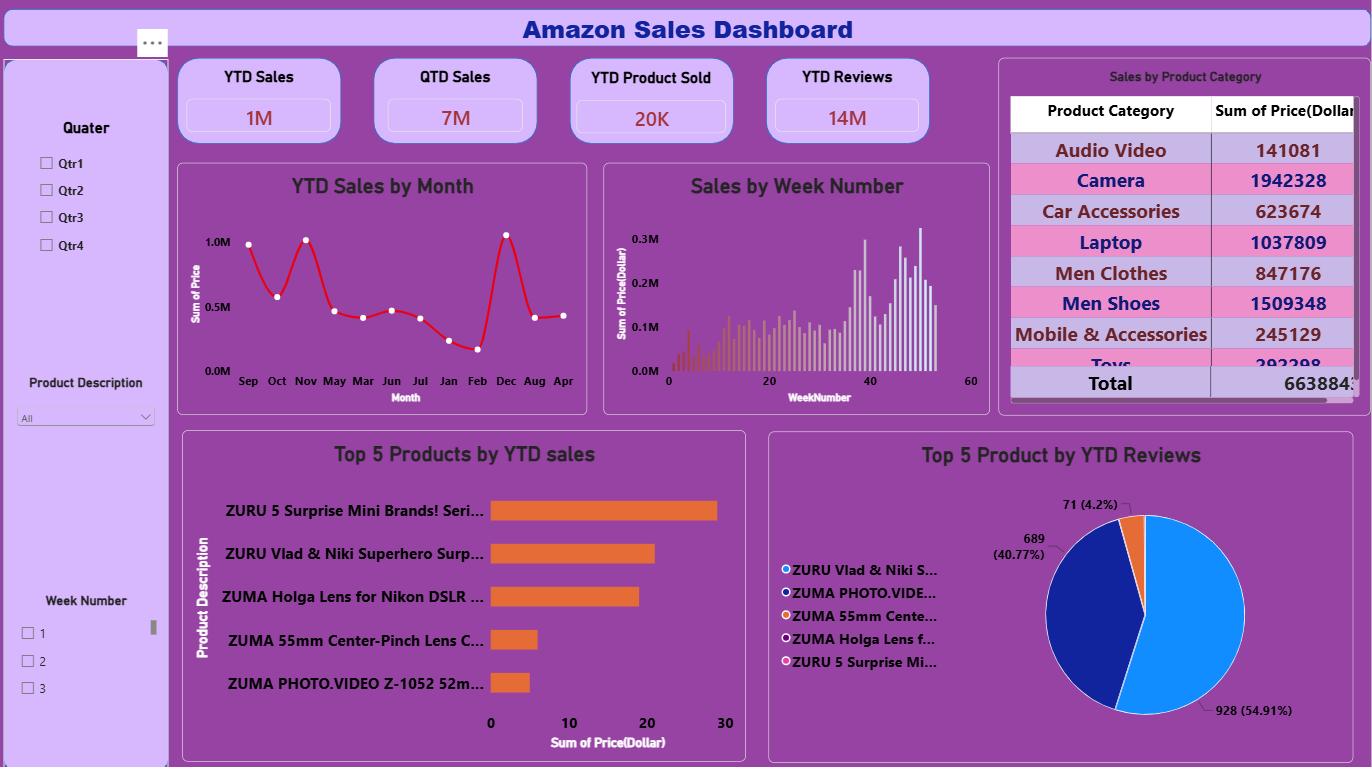

The dashboard page shown, as its layout file describes it:
{"tool":"powerbi","page":{"name":"Page 1","canvas":[1920,1080],"ordinal":0},"visuals":[{"type":"shape","box":[252.5,81.2,228.8,120],"z":0},{"type":"shape","box":[1073.8,81.2,228.8,120],"z":1000},{"type":"shape","box":[800,81.2,228.8,120],"z":2000},{"type":"shape","box":[526.2,81.2,228.8,120],"z":3000},{"type":"shape","box":[10.5,14,1909.9,52.3],"z":4000},{"type":"shape","box":[10.5,83.7,230.2,995.9],"z":5000},{"type":"cardVisual","title":"YTD Sales","fields":{"Data":["Amazon_Data.YTDSales"]},"box":[265,96.2,203.8,91.2],"z":6000},{"type":"cardVisual","title":"QTD Sales","fields":{"Data":["Sum(Amazon_Data.QTDSales)"]},"box":[546.2,96.2,190,91.2],"z":7000},{"type":"cardVisual","title":"YTD Product Sold","fields":{"Data":["Amazon_Data.YTD Products Sold"]},"box":[810,97.5,210,91.2],"z":8000},{"type":"cardVisual","title":"YTD Reviews","fields":{"Data":["Amazon_Data.YTD Reviews"]},"box":[1087.5,96.2,202.5,91.2],"z":9000},{"type":"lineChart","title":"YTD Sales by Month","fields":{"Category":["Date Table.MonthName"],"Y":["Sum(Amazon_Data.Price(Dollar))"]},"box":[252.9,228.5,572.1,352.3],"z":10000},{"type":"clusteredColumnChart","title":"Sales by Week Number","fields":{"Category":["Date Table.WeekNumber"],"Y":["Sum(Amazon_Data.Price(Dollar))"]},"box":[846.9,228,539,352.3],"z":11000},{"type":"pivotTable","title":"Sales by Product Category","fields":{"Rows":["Amazon_Data.Product Category"],"Values":["Sum(Amazon_Data.Price(Dollar))"]},"box":[1398.9,81.4,521.2,499.5],"z":11001},{"type":"clusteredBarChart","title":"Top 5 Products by YTD sales","fields":{"Category":["Amazon_Data.Product Description"],"Y":["Sum(Amazon_Data.Price(Dollar))"]},"box":[259.9,601.7,786.6,462.2],"z":11002},{"type":"pieChart","title":"Top 5 Product by YTD Reviews","fields":{"Category":["Amazon_Data.Product Description"],"Y":["Sum(Amazon_Data.Number of  reviews)"]},"box":[1077.9,603.5,816.3,462.2],"z":11003},{"type":"slicer","title":"Quater","fields":{"Values":["Date Table.Quarter"]},"box":[54.1,167.4,143.8,195],"z":11004},{"type":"slicer","title":"Product Description","fields":{"Values":["Amazon_Data.Product Description"]},"box":[24.4,525,202.5,112.5],"z":11005},{"type":"slicer","title":"Week Number","fields":{"Values":["Date Table.WeekNumber"]},"box":[27.9,828.5,196.2,150],"z":11006}]}

Visuals, with their boxes in screenshot pixels (x1, y1, x2, y2), scaled from the page's 1920x1080 canvas onto the 1372x767 screenshot:
shape: BBox(180, 58, 344, 143)
shape: BBox(767, 58, 931, 143)
shape: BBox(572, 58, 735, 143)
shape: BBox(376, 58, 540, 143)
shape: BBox(8, 10, 1371, 47)
shape: BBox(8, 59, 172, 766)
"YTD Sales" cardVisual: BBox(189, 68, 335, 133)
"QTD Sales" cardVisual: BBox(390, 68, 526, 133)
"YTD Product Sold" cardVisual: BBox(579, 69, 729, 134)
"YTD Reviews" cardVisual: BBox(777, 68, 922, 133)
"YTD Sales by Month" lineChart: BBox(181, 162, 590, 412)
"Sales by Week Number" clusteredColumnChart: BBox(605, 162, 990, 412)
"Sales by Product Category" pivotTable: BBox(1000, 58, 1371, 413)
"Top 5 Products by YTD sales" clusteredBarChart: BBox(186, 427, 748, 756)
"Top 5 Product by YTD Reviews" pieChart: BBox(770, 429, 1354, 757)
"Quater" slicer: BBox(39, 119, 141, 257)
"Product Description" slicer: BBox(17, 373, 162, 453)
"Week Number" slicer: BBox(20, 588, 160, 695)
